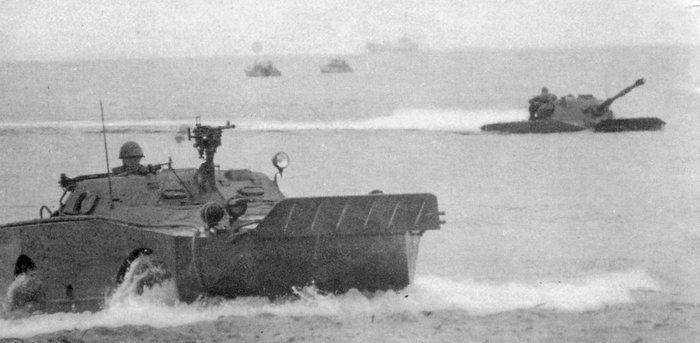MIL_IFV: (1, 121, 420, 310), (479, 73, 668, 136)
